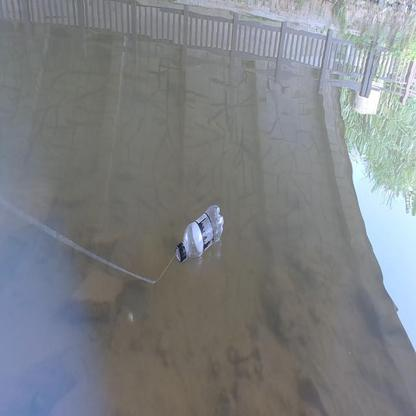plastic bottle: (176, 203, 223, 260)
